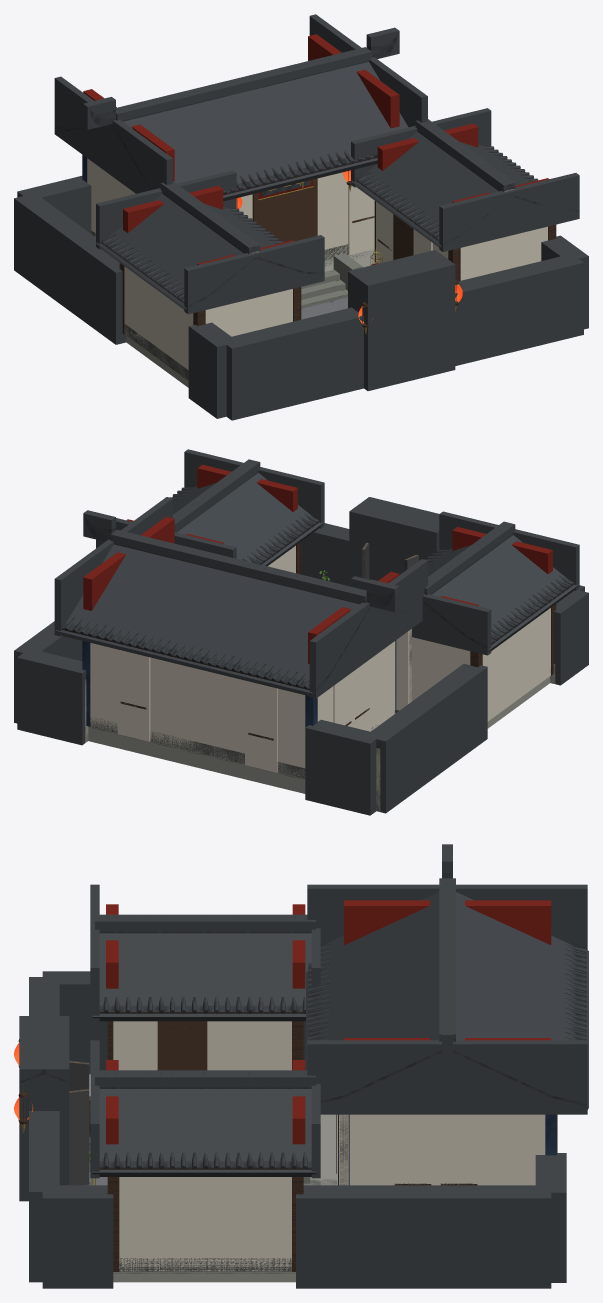
Rendered from kit_courtyard_blue.gltf.
The picture shows the model from 3 angles, top to bottom: view 1: azimuth 30°, elevation 25°; view 2: azimuth 150°, elevation 25°; view 3: azimuth 270°, elevation 25°; orthographic projection. The views are drawn at different scales.
Visible parts, largest first — view 1: Far, Near, Detail; view 2: Far, Near; view 3: Far, Near.
Part boxes in pixels (x1,y1,x2,y2): Far: [14, 14, 588, 420]; Near: [55, 34, 578, 380]; Detail: [236, 156, 462, 333]; Far: [14, 449, 588, 815]; Near: [15, 463, 575, 811]; Far: [19, 844, 588, 1288]; Near: [20, 873, 587, 1273].
Bounding box in the file's own units: 12.35 × 5.67 × 12.48.
34 materials, 33 textured.
